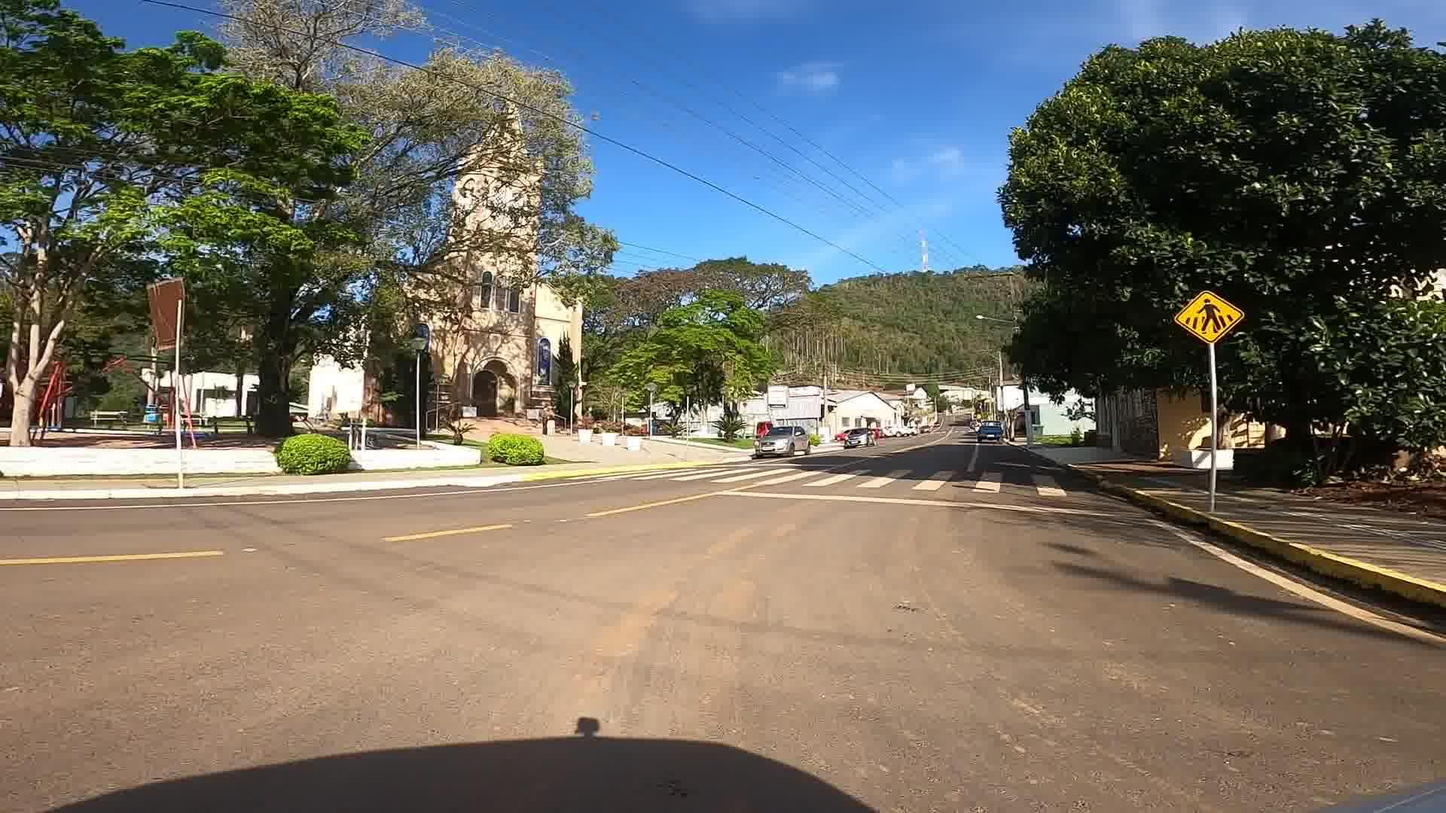A-32b: (1173, 286, 1243, 349)
